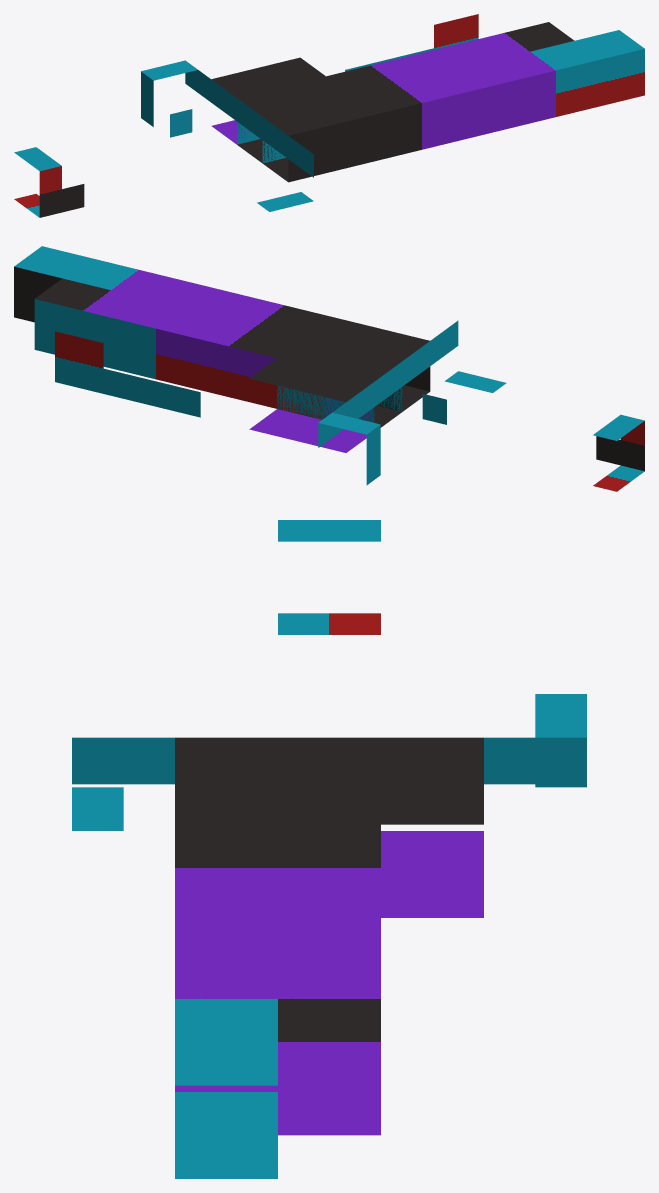
File: Knife.obj
The picture shows the model from 3 angles, top to bottom: view 1: azimuth 30°, elevation 25°; view 2: azimuth 150°, elevation 25°; view 3: azimuth 270°, elevation 25°; orthographic projection. The views are drawn at different scales.
Visible parts, largest first — view 1: 1, 2, Protection, 3, schaft; view 2: 2, 1, 3, Protection, schaft; view 3: 1, 2, 3, Protection, schaft.
Part boxes in pixels (box(x1,y1,x2,y2)): 1: box(263, 30, 644, 182); 2: box(237, 22, 574, 163); Protection: box(141, 60, 313, 211); 3: box(211, 14, 478, 144); schaft: box(14, 109, 192, 217); 2: box(34, 278, 402, 427); 1: box(14, 246, 430, 411); 3: box(55, 331, 374, 452); Protection: box(318, 320, 506, 485); schaft: box(422, 394, 644, 491); 1: box(175, 737, 277, 1178); 2: box(278, 737, 380, 1135); 3: box(381, 737, 483, 917); Protection: box(72, 694, 586, 830); schaft: box(278, 520, 380, 634).
Bounding box in the file's own units: 0.8125 × 0.0625 × 0.3125.
